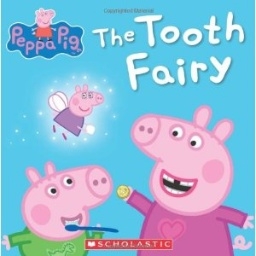Peppa: (118, 105, 254, 256), (49, 83, 105, 140)
